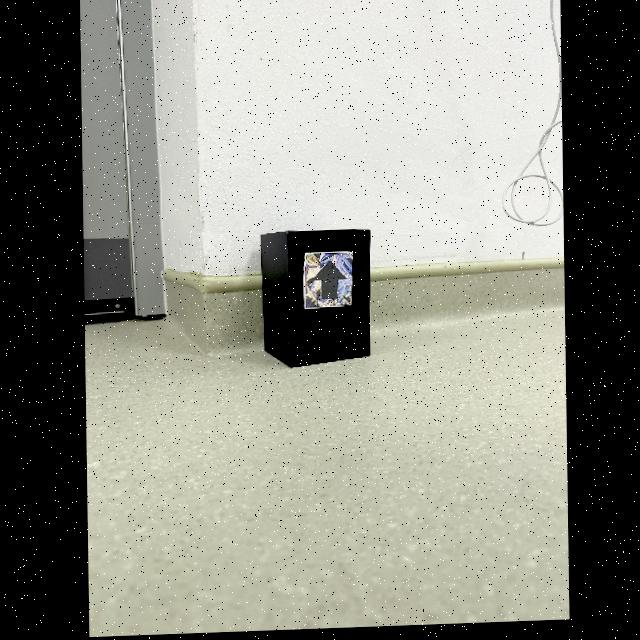UP: (312, 263, 346, 302)
